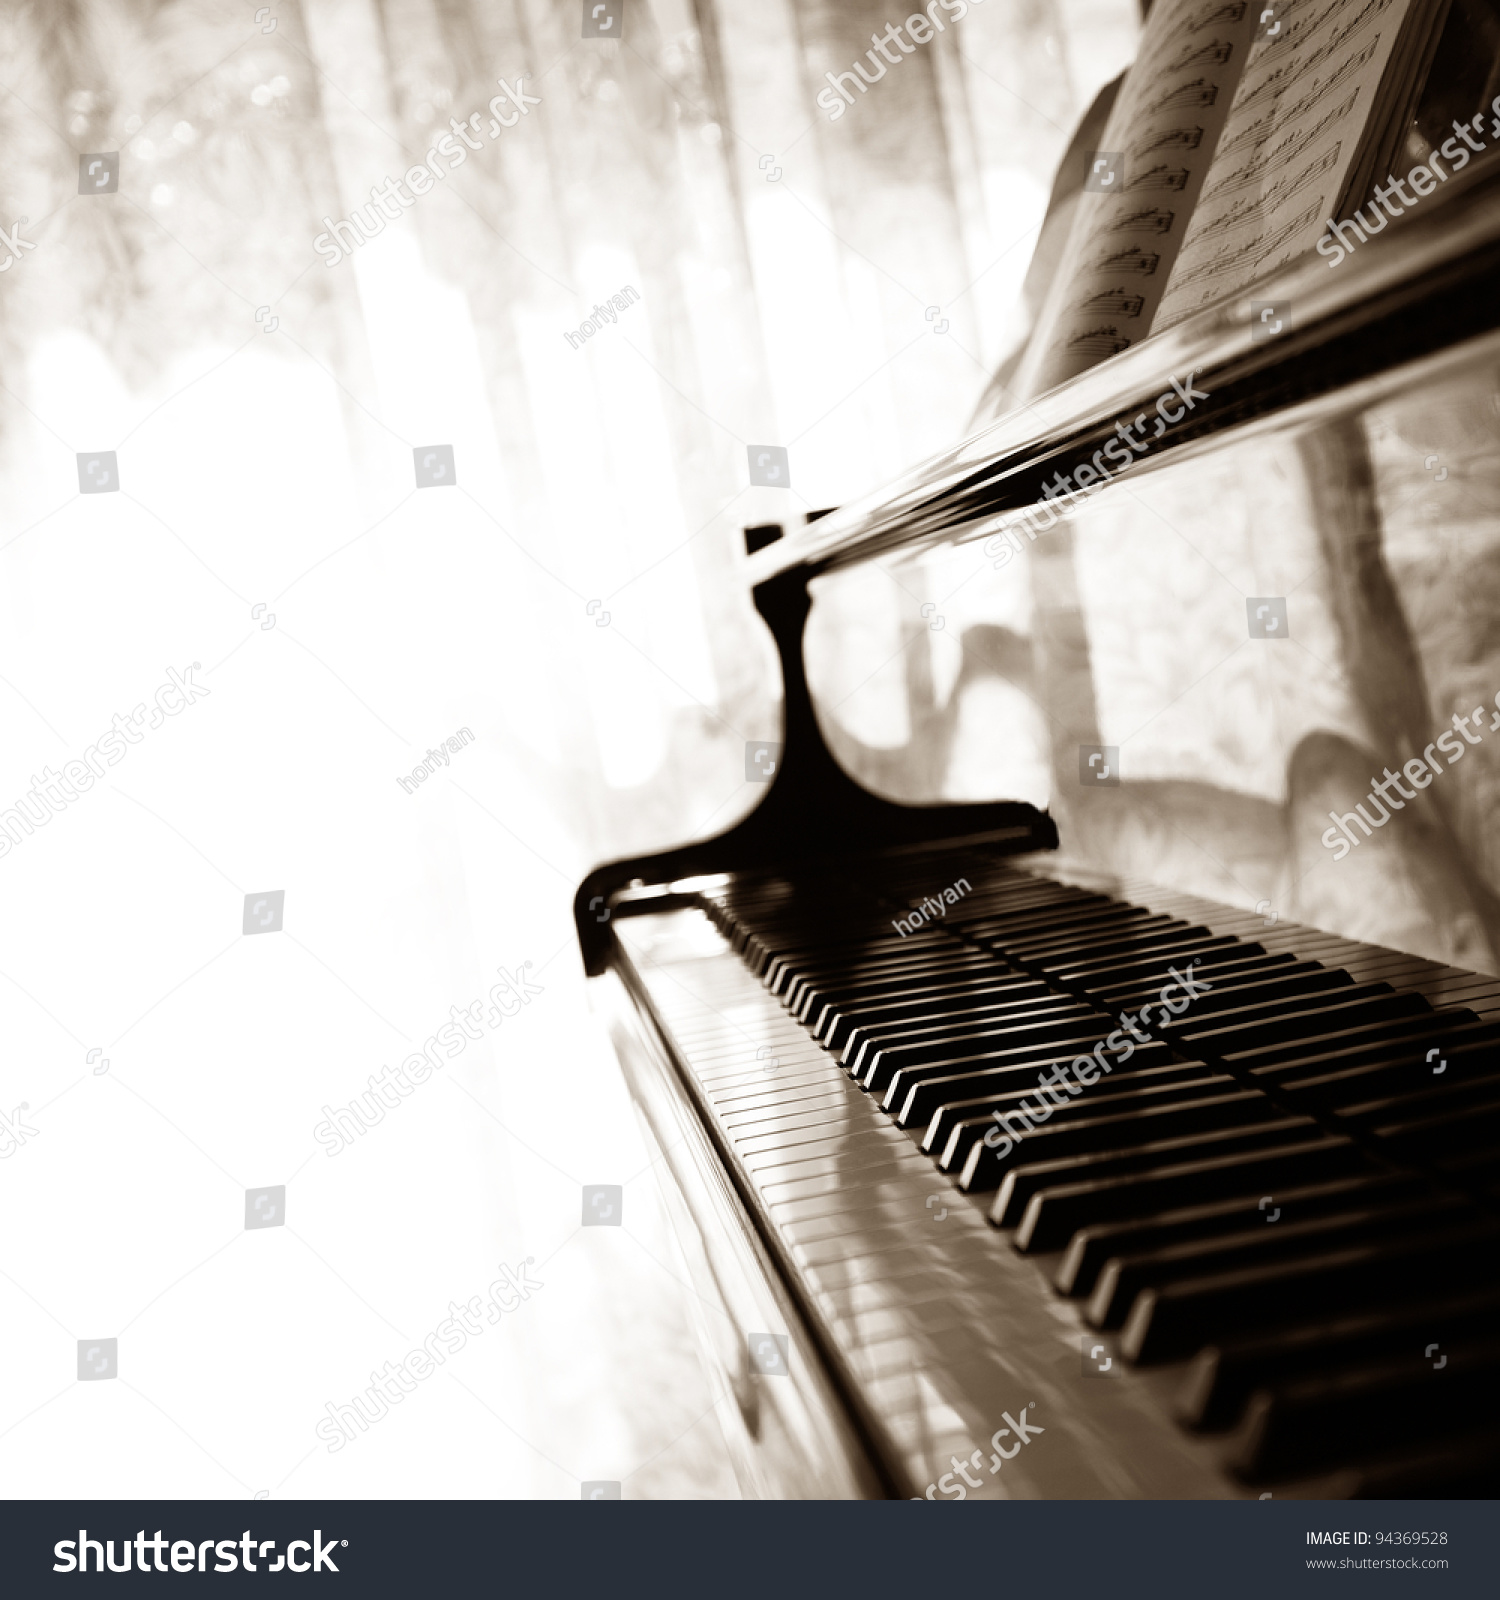Piano: (477, 7, 1500, 1600)
